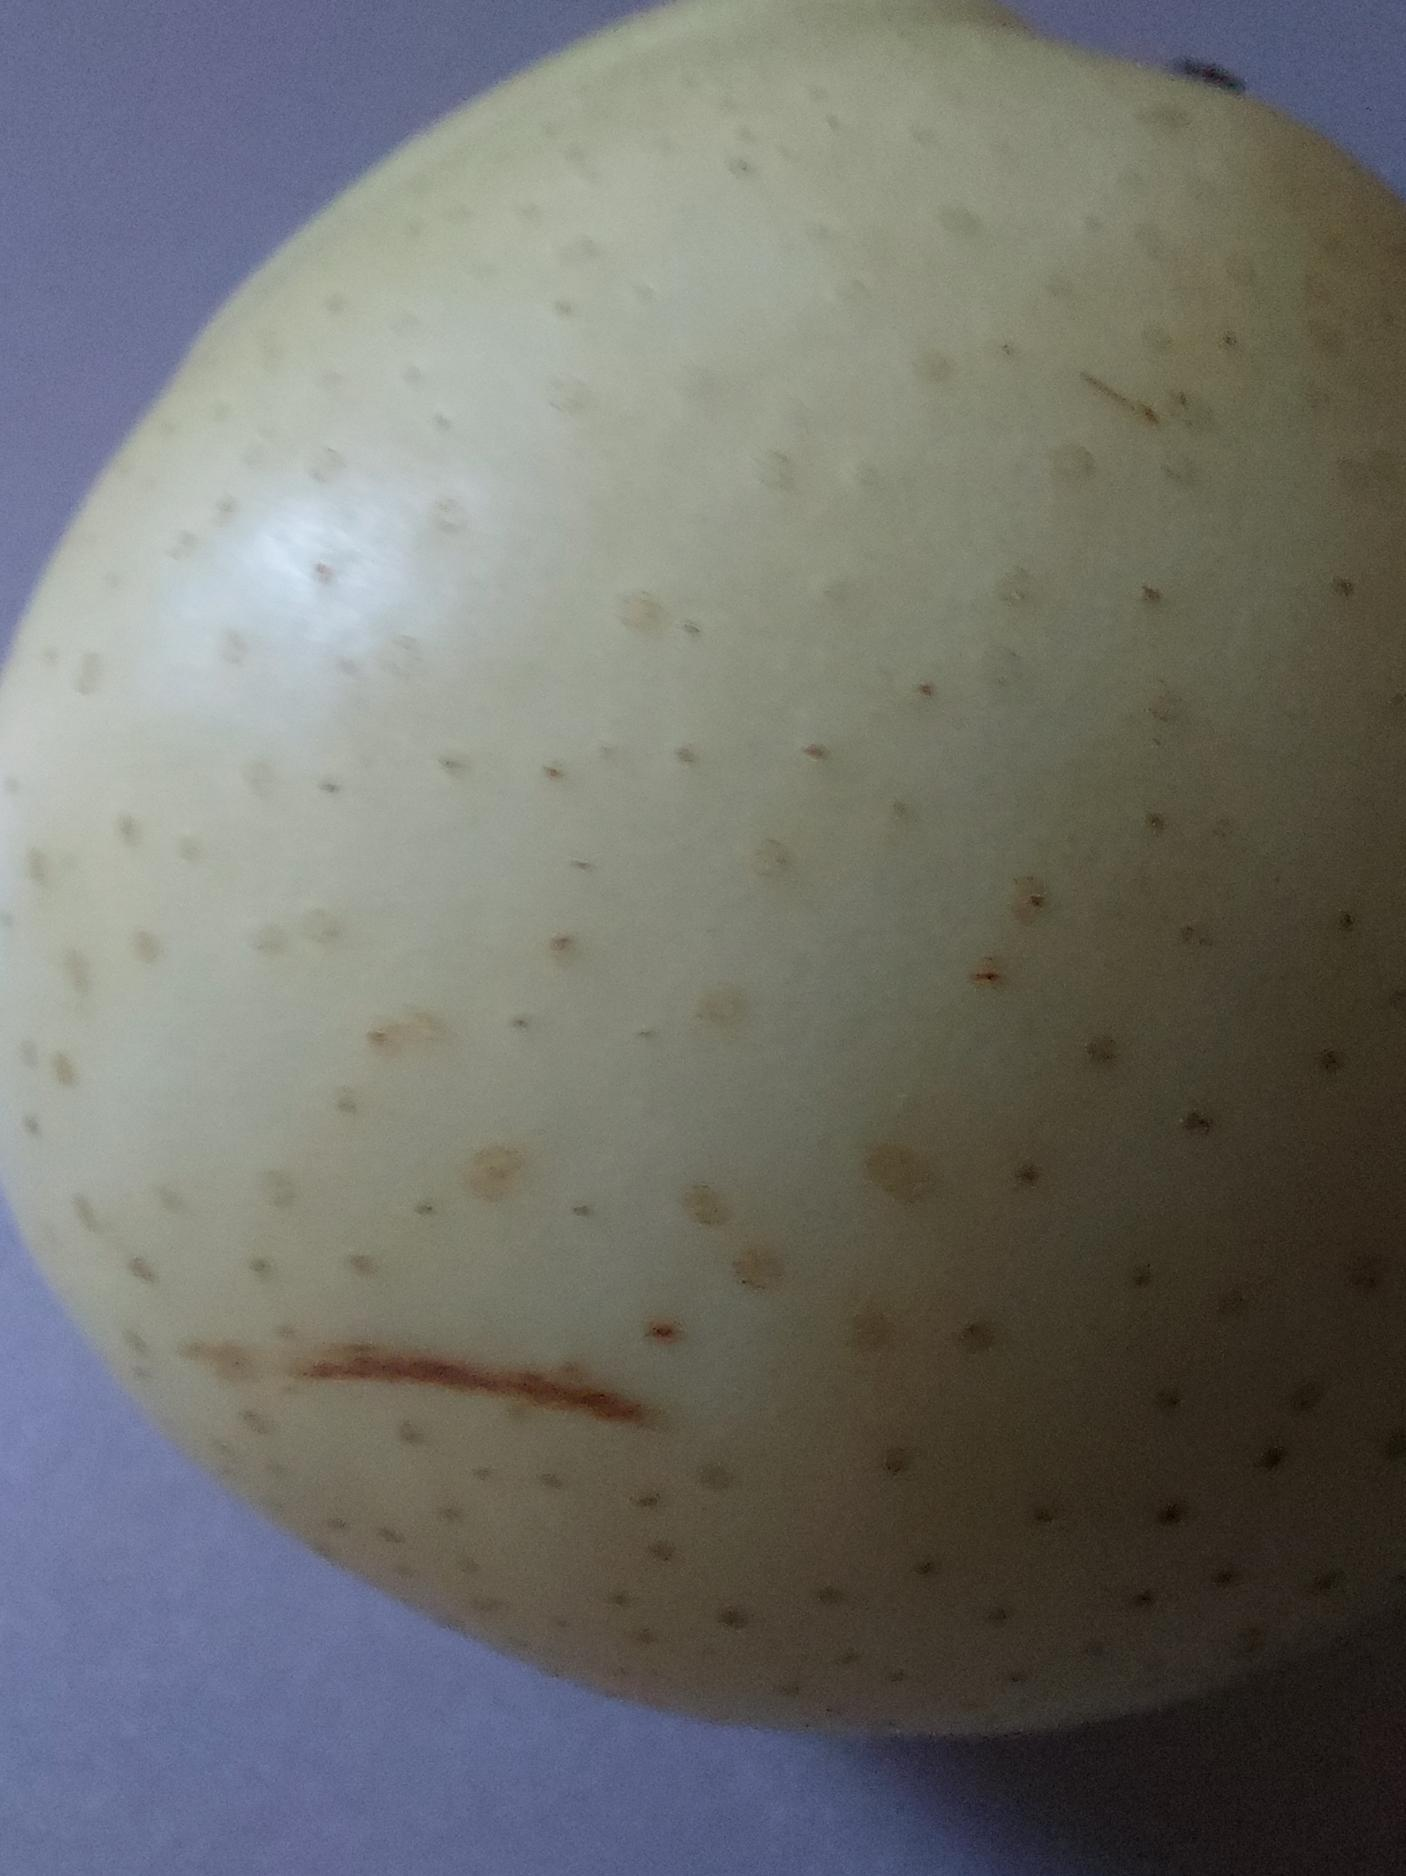Good Pear: (0, 0, 1406, 1750)
